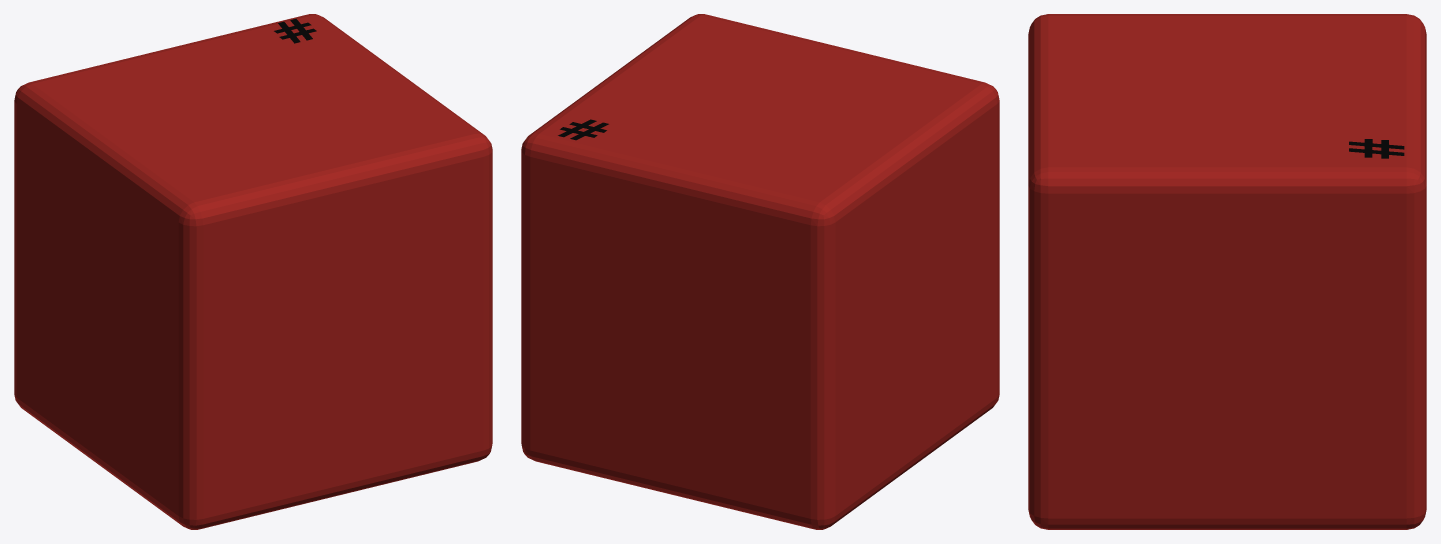
The model's file is Subjekt_Highlight_Hashtag.dae.
3 views of the same model, side by side, from view 1: azimuth 30°, elevation 25°; view 2: azimuth 150°, elevation 25°; view 3: azimuth 270°, elevation 25° (orthographic). The views are drawn at different scales.
Parts seen in each view (by area): view 1: Cube; view 2: Cube; view 3: Cube, Plane.
Part boxes in pixels (box(x1,y1,x2,y2)): Cube: box(14, 14, 492, 529); Cube: box(521, 14, 999, 529); Cube: box(1028, 14, 1426, 529); Plane: box(1349, 139, 1404, 158).
Bounding box in the file's own units: 2 × 2 × 2.01.
Materials: 2 (1 with a texture image).
